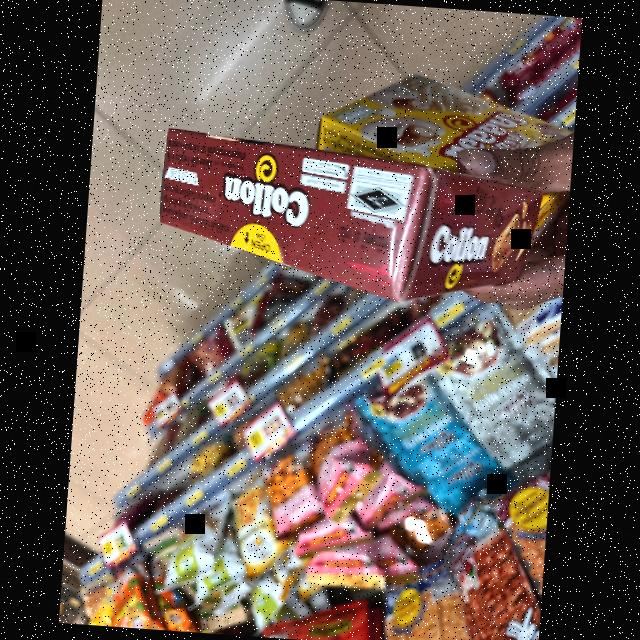cardboard_box: (128, 120, 569, 313), (296, 37, 560, 263)
